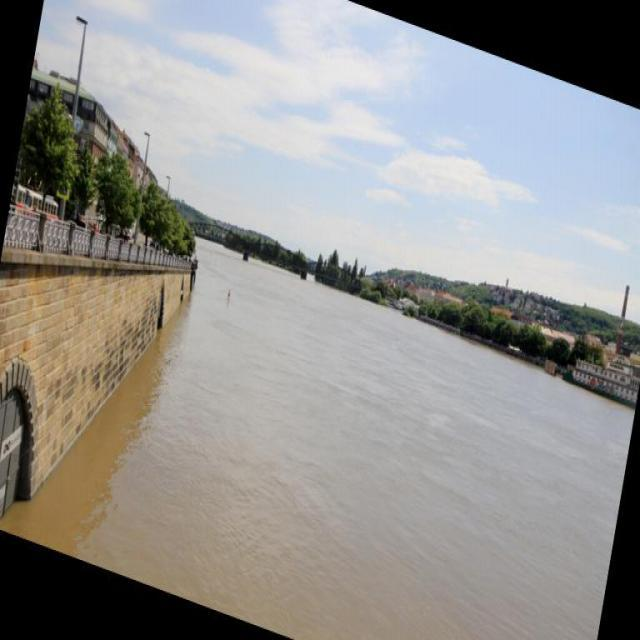flood: (81, 214, 637, 639)
